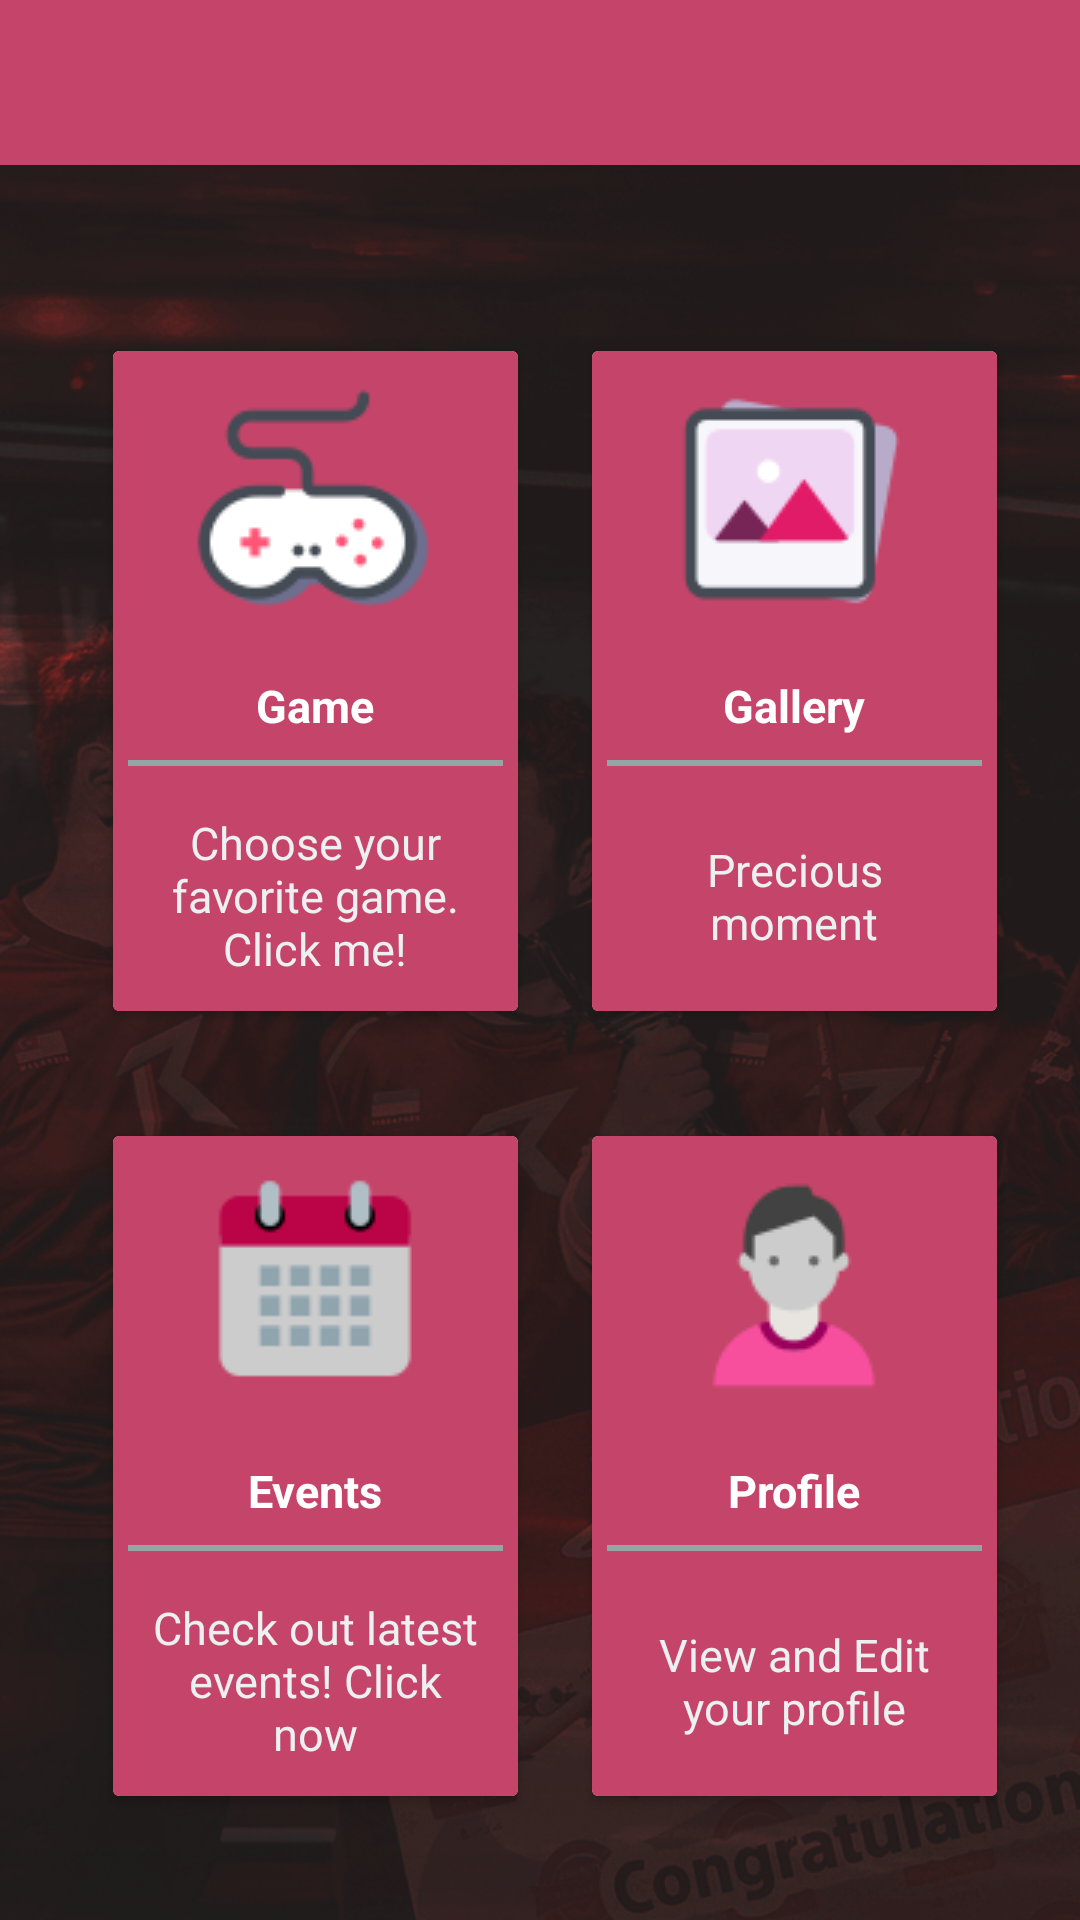

Screen size 1080 × 1920. Icon name, then its center in pixels as [x,y]:
console: [313,498]
